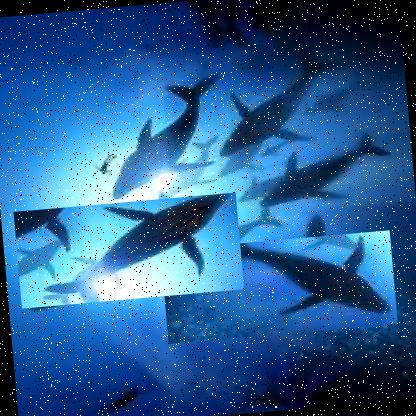blue_whale: (160, 230, 398, 345), (13, 193, 244, 310), (92, 69, 224, 209)
